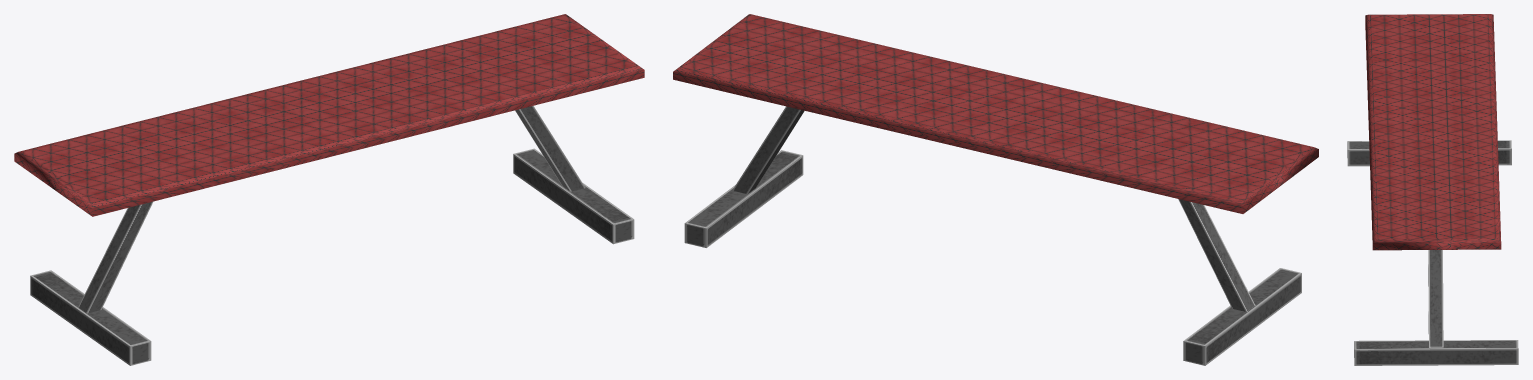
Rendered from bench.fbx.
The picture shows the model from 3 angles, left to right: view 1: azimuth 30°, elevation 25°; view 2: azimuth 150°, elevation 25°; view 3: azimuth 270°, elevation 25°; orthographic projection. The views are drawn at different scales.
Parts seen in each view (by area): view 1: bench; view 2: bench; view 3: bench.
Boxes of the visible parts, left/top/right/bottom form: bench: left=14, top=14, right=644, bottom=365; bench: left=673, top=14, right=1318, bottom=365; bench: left=1347, top=14, right=1518, bottom=365.
Size of the model in its own units: 553 by 150 by 174.
